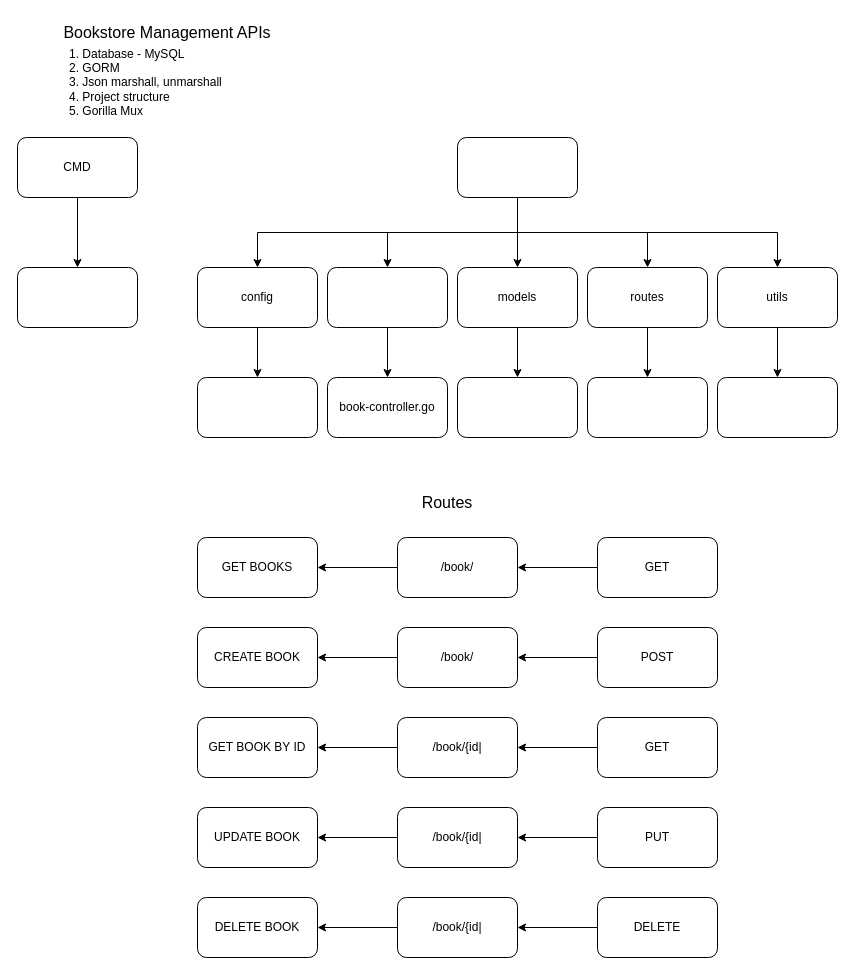
This 855x975 diagram has some shape labels left out. Here are the shapes that lost their labels. From the top down, the centre of each, then its label:
point (517, 167): PKG
point (77, 297): main.go
point (387, 297): controllers
point (257, 407): app.go
point (517, 407): book.go
point (647, 407): bookstore-routes.go
point (777, 407): utils.go
